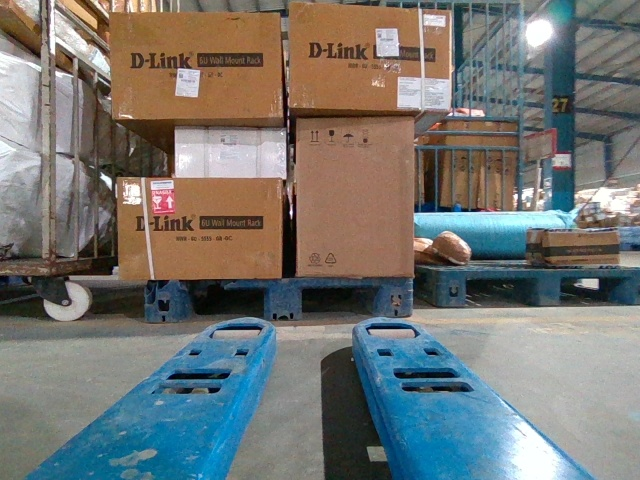block: (144, 280, 188, 325), (267, 277, 308, 319), (379, 278, 414, 314), (439, 270, 469, 307), (534, 270, 563, 305)
front: (146, 276, 414, 323)
hole pallet: (300, 286, 385, 318), (186, 289, 268, 318), (560, 277, 636, 306), (465, 277, 539, 305)
